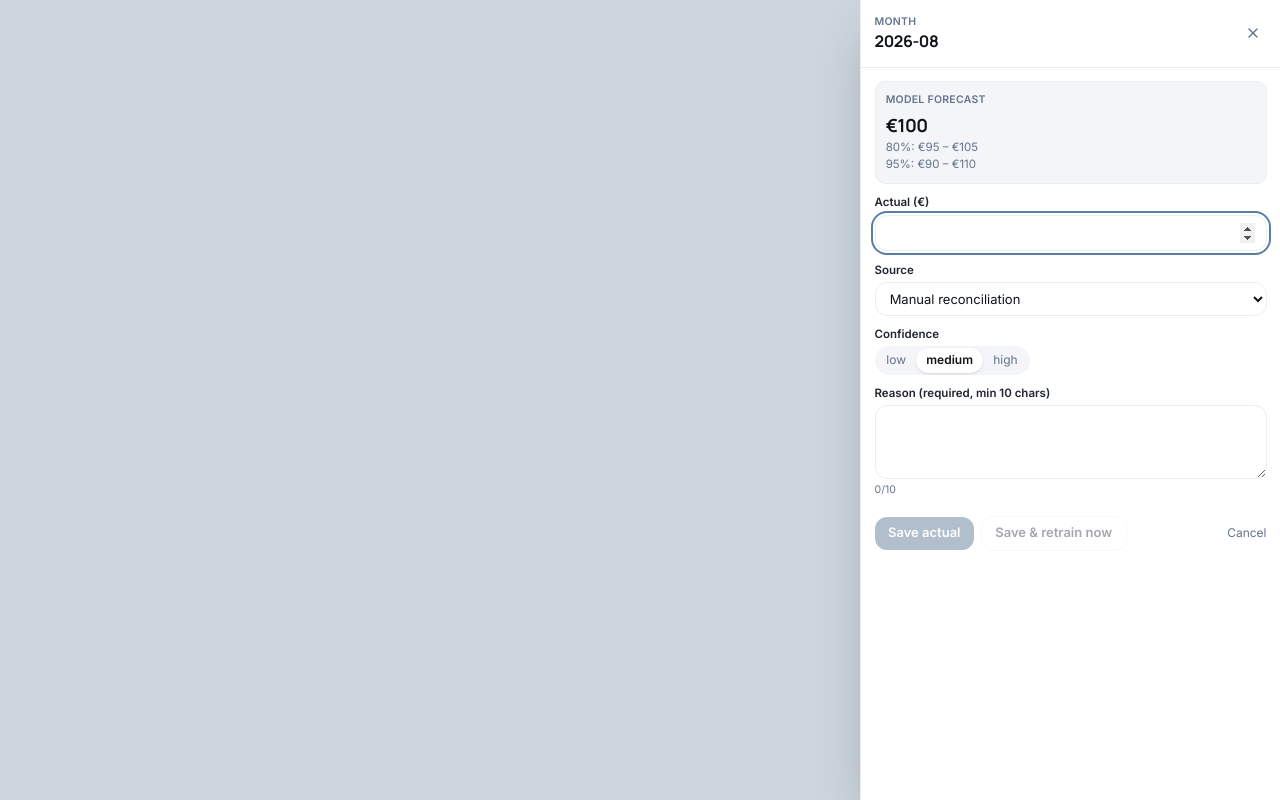
Test: ActualEntryPanel › shows FVA warning for a <5% adjustment
Type "102" into the number field with test id "actual-input" at (1070, 233), box [874,215,1266,251]
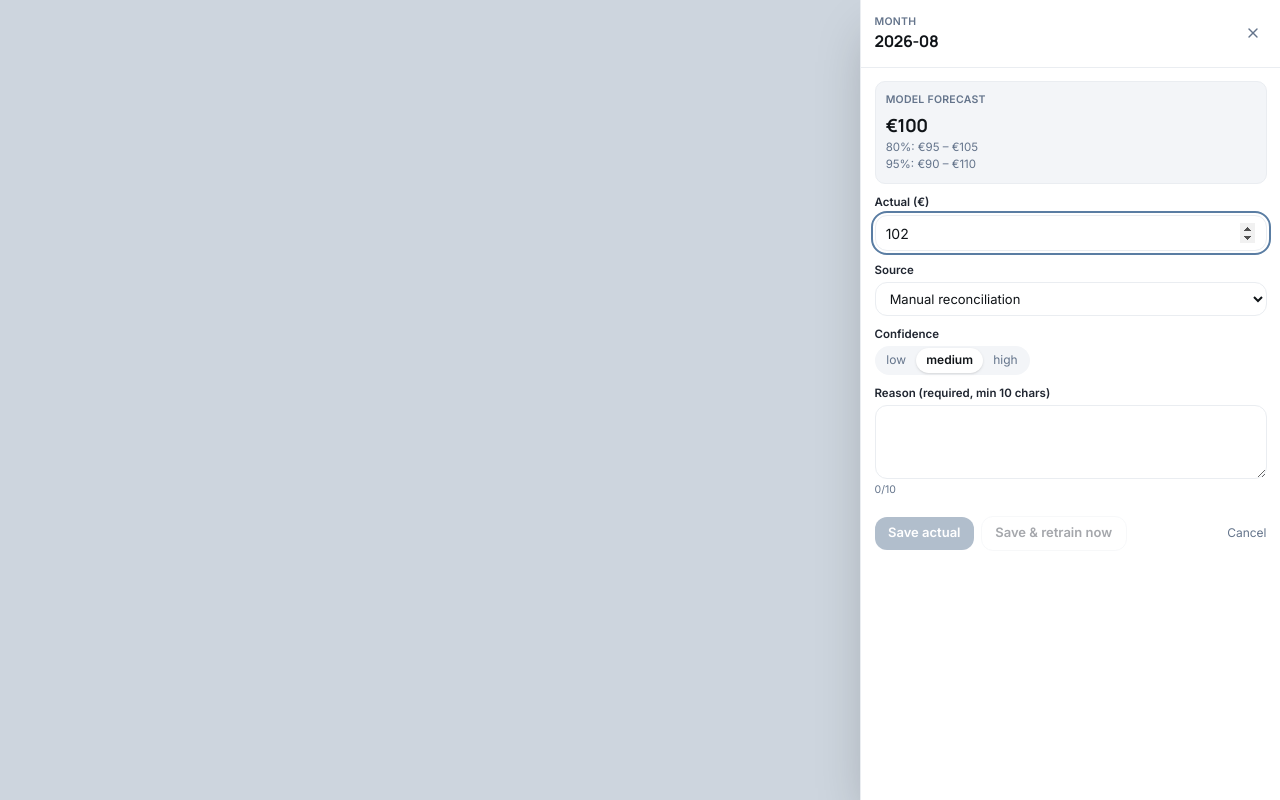
Type "within model band - small reconciliation" into the text box with test id "reason-input" at (1070, 442), box [874,405,1266,479]
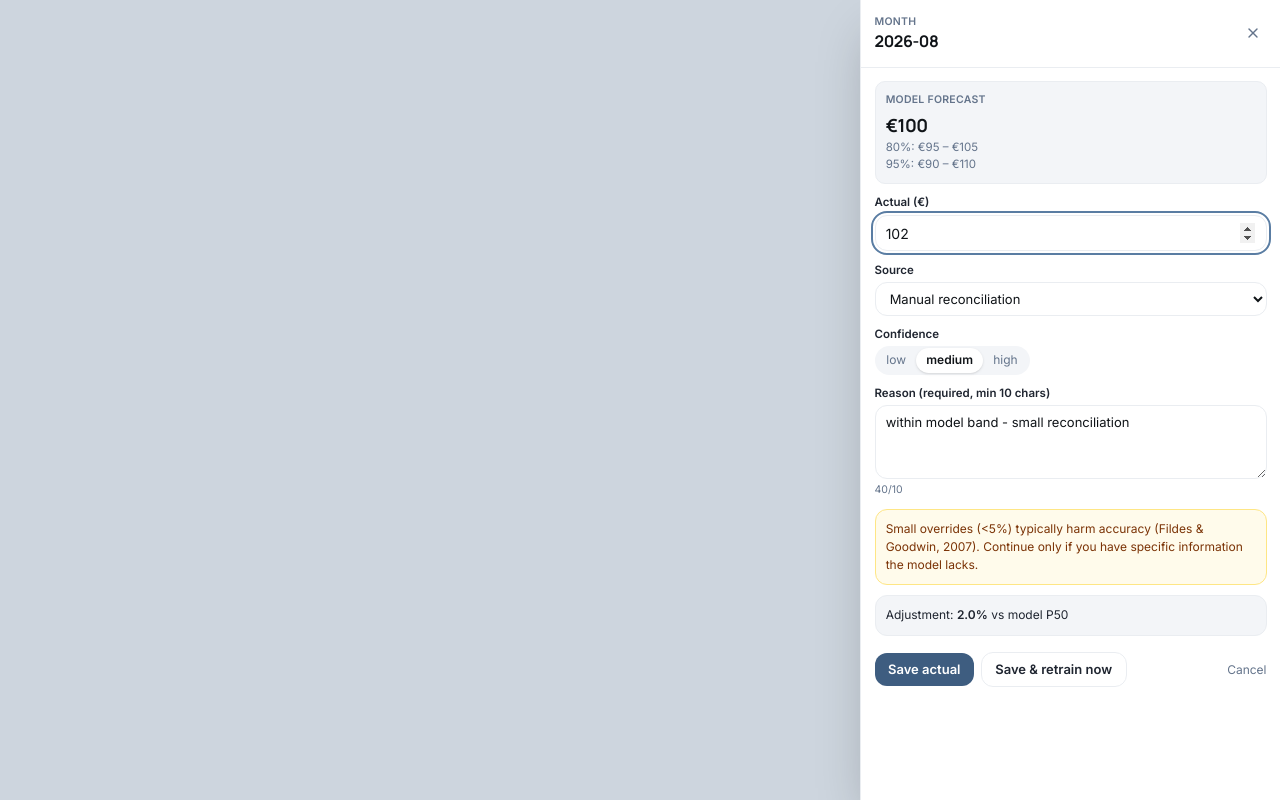
Result: the text with test id "fva-warning" is shown at [874,509,1266,585]
Result: the text "Small overrides" is shown at [886,521,1243,572]
